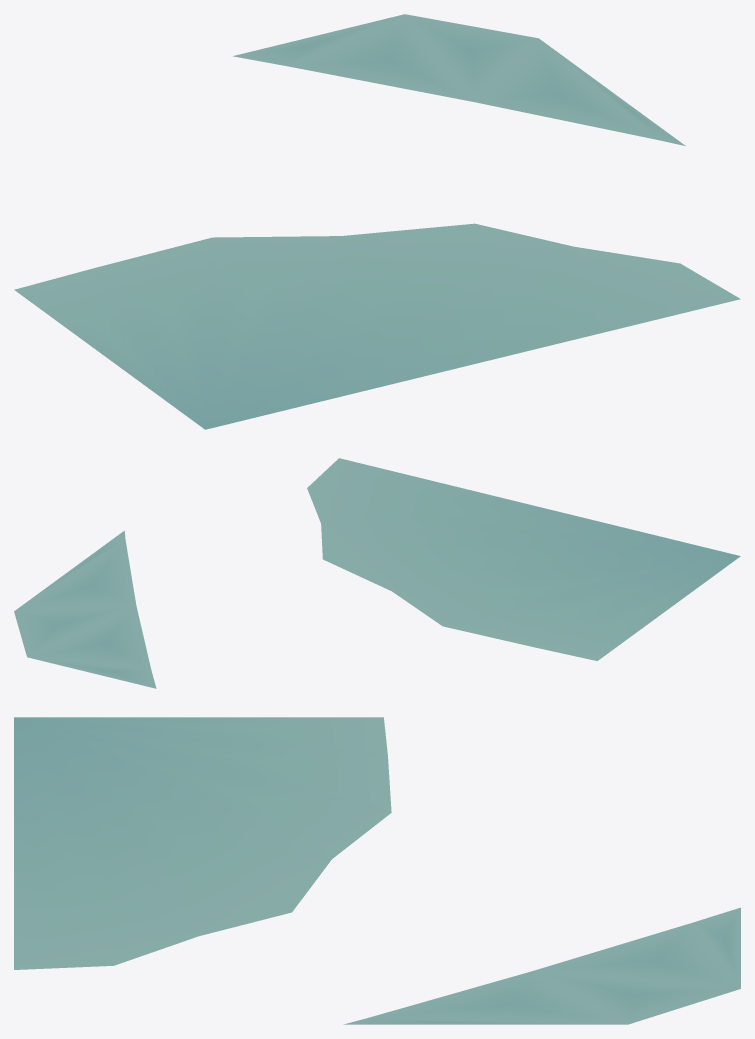
Rendered from water-15-14.glb.
3 renders of one model, top to bottom at view 1: azimuth 30°, elevation 25°; view 2: azimuth 150°, elevation 25°; view 3: azimuth 270°, elevation 25°, orthographic. The views are drawn at different scales.
Bounding box in the file's own units: 16 × 0 × 16.
